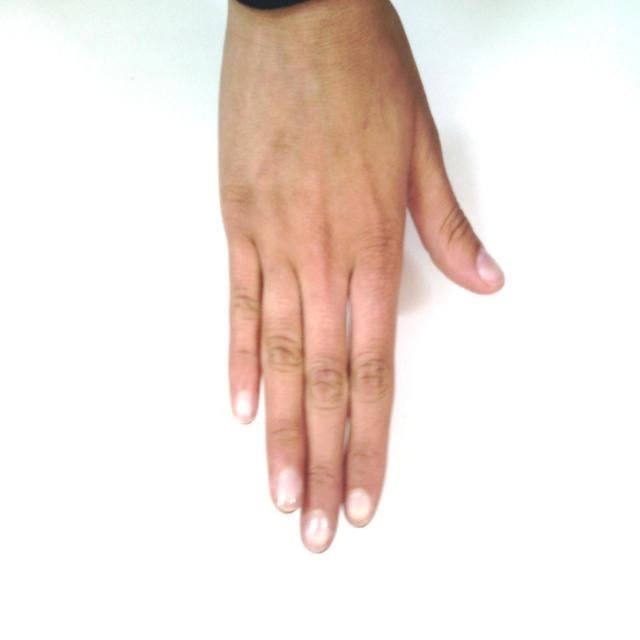others: (148, 2, 556, 567)
